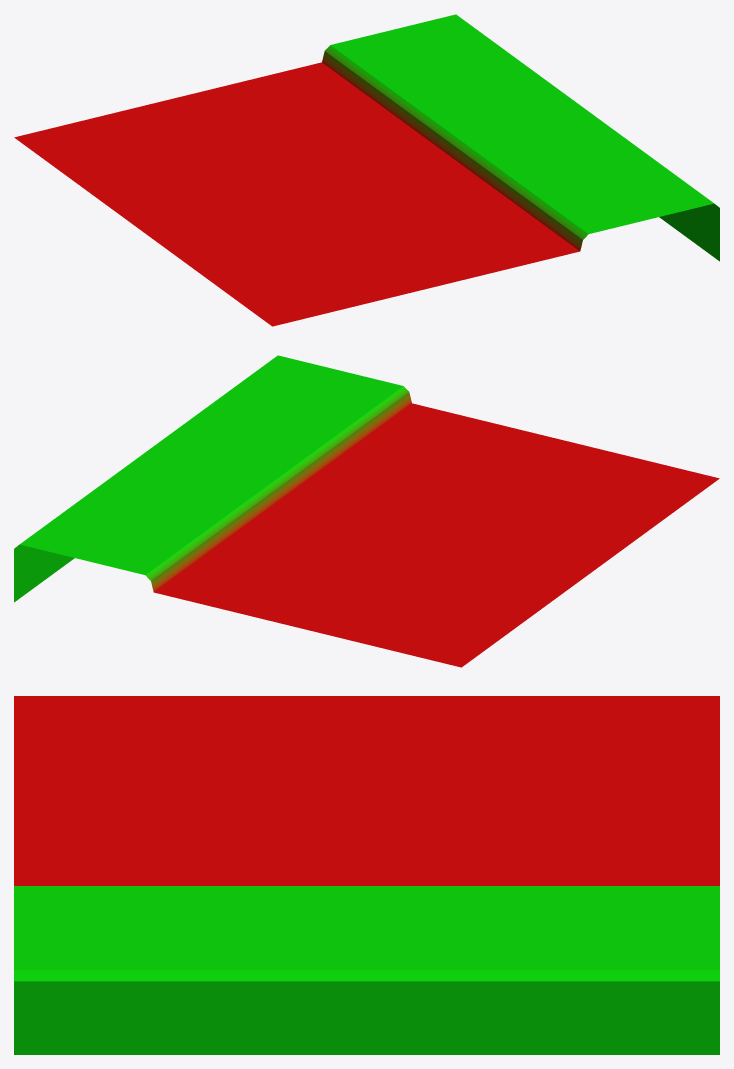
File: WideRoadA_Edge.fbx
3 views of the same model, one above another, from view 1: azimuth 30°, elevation 25°; view 2: azimuth 150°, elevation 25°; view 3: azimuth 270°, elevation 25° (orthographic). The views are drawn at different scales.
Parts seen in each view (by area): view 1: WideRoadA_Edge; view 2: WideRoadA_Edge; view 3: WideRoadA_Edge.
Boxes of the visible parts, x1=… form: WideRoadA_Edge: x1=14, y1=14, x2=719, y2=326; WideRoadA_Edge: x1=14, y1=355, x2=719, y2=667; WideRoadA_Edge: x1=14, y1=696, x2=719, y2=1054.
Bounding box in the file's own units: 2 × 2 × 0.2542.
